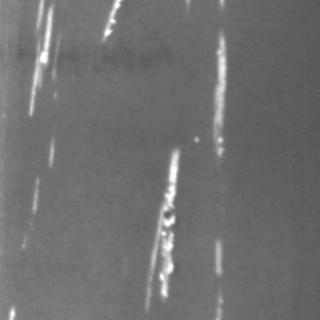scratches: (140, 144, 180, 302), (21, 0, 53, 116), (205, 27, 227, 153), (207, 237, 226, 315), (96, 0, 122, 40)
